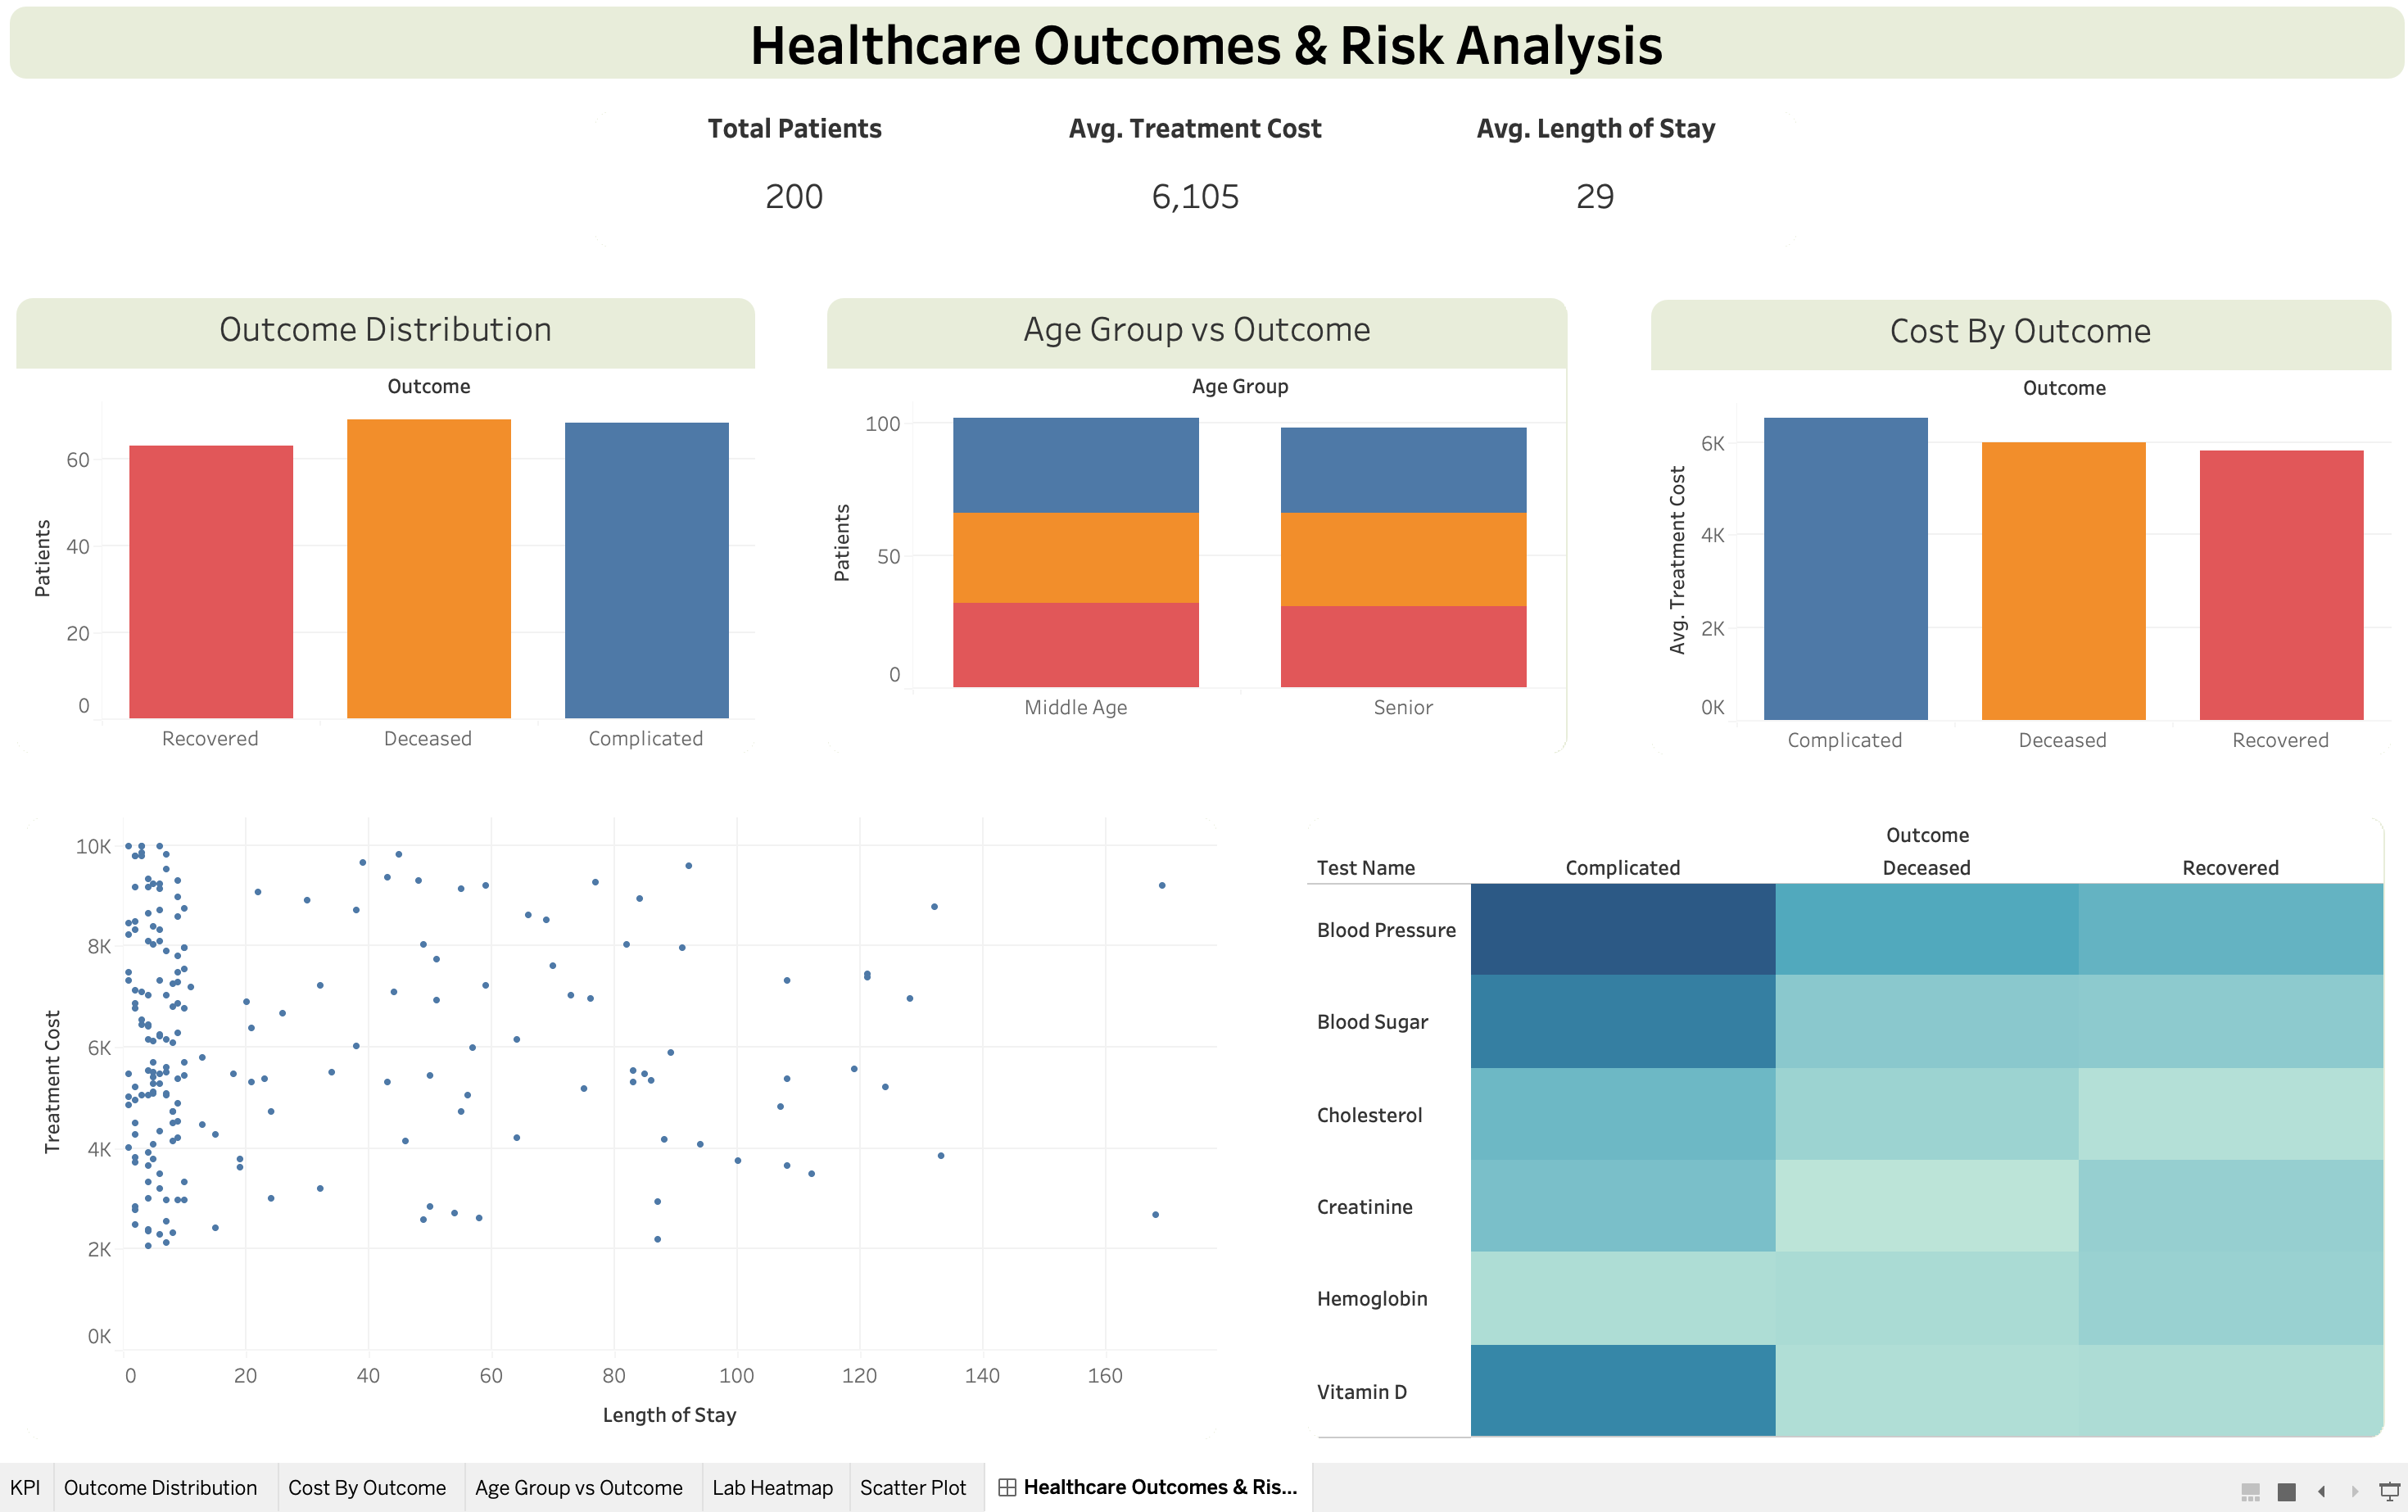

The dashboard page shown, as its layout file describes it:
{"tool":"tableau","page":{"name":"Healthcare Outcomes & Risk Analysis","canvas":[1000,1000],"units":"permille","ordinal":0},"visuals":[{"type":"text","box":[1.5,0,1000,72.7]},{"type":"worksheet","title":"KPI","mark":"Automatic","box":[240.2,65,512.7,115.5]},{"type":"worksheet","title":"Outcome Distribution","mark":"Automatic","rows":["PatientID"],"cols":["OutcomeName"],"box":[0,192.5,320.2,333.3]},{"type":"worksheet","title":"Age Group vs Outcome","mark":"Automatic","rows":["PatientID"],"cols":["Calculation_0383234062688258"],"box":[336.4,192.5,321,333.3]},{"type":"worksheet","title":"Cost By Outcome","mark":"Automatic","rows":["TreatmentCost"],"cols":["OutcomeName"],"box":[679,193.7,321,333.3]},{"type":"worksheet","title":"Scatter Plot","mark":"Circle","rows":["TreatmentCost"],"cols":["Calculation_0383234062544896"],"box":[3.9,547.5,508.1,447.7]},{"type":"worksheet","title":"Lab Heatmap","mark":"Square","rows":["TestName"],"cols":["OutcomeName"],"box":[535.8,547.5,461.1,446.4]}]}

Visuals, with their boxes on the dashboard's canvas, which has no fixed pixel size, in thousandths of its width and height (x1, y1, x2, y2). These are canvas units, not pixel positions in the 2408x1512 screenshot, which may show the page scaled, cropped or inside an application window:
text: 2/0/1002/73
"KPI" worksheet: 240/65/753/180
"Outcome Distribution" worksheet: 0/192/320/526
"Age Group vs Outcome" worksheet: 336/192/657/526
"Cost By Outcome" worksheet: 679/194/1000/527
"Scatter Plot" worksheet (Circle marks): 4/548/512/995
"Lab Heatmap" worksheet (Square marks): 536/548/997/994
